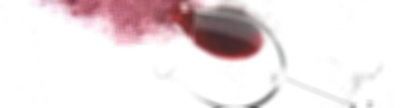wine: (37, 0, 188, 47)
